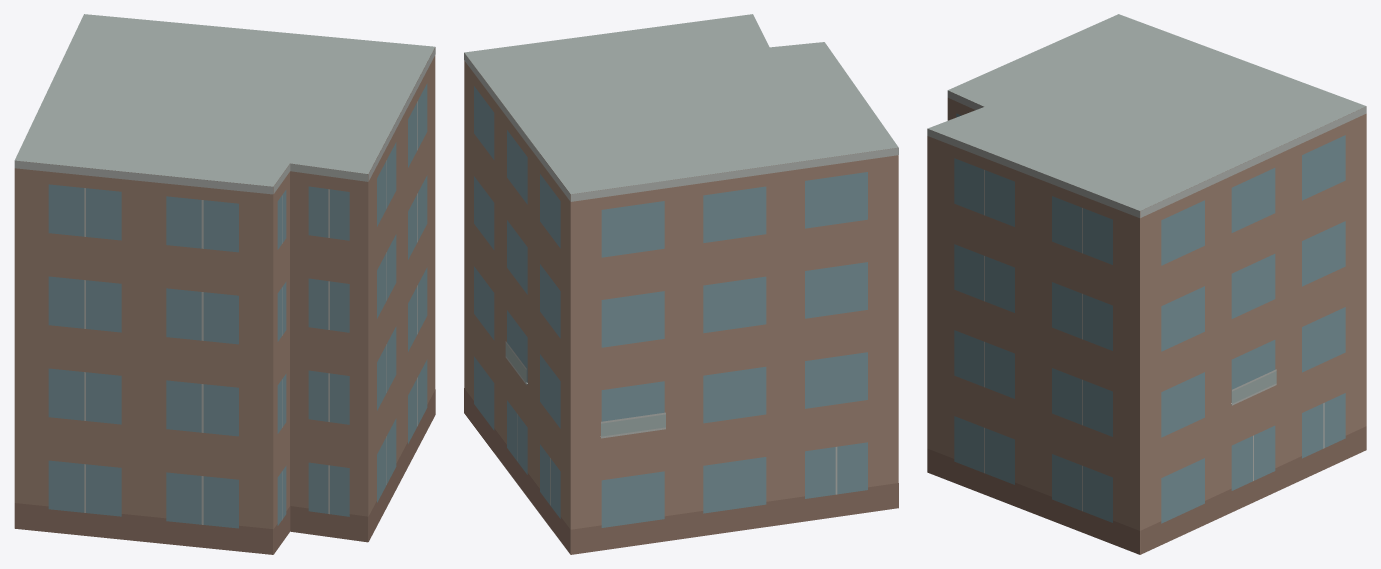
The model's file is survey-upis-32920603.glb.
3 renders of one model, left to right at view 1: azimuth 30°, elevation 25°; view 2: azimuth 150°, elevation 25°; view 3: azimuth 270°, elevation 25°, orthographic. The views are drawn at different scales.
Parts seen in each view (by area): view 1: survey-upis-32920603.tmp; view 2: survey-upis-32920603.tmp; view 3: survey-upis-32920603.tmp.
Part boxes in pixels (left/top/right/bottom): survey-upis-32920603.tmp: left=14, top=14, right=435, bottom=554; survey-upis-32920603.tmp: left=464, top=14, right=898, bottom=554; survey-upis-32920603.tmp: left=927, top=14, right=1366, bottom=554.
Size of the model in its own units: 14.24 by 11.58 by 13.42.
